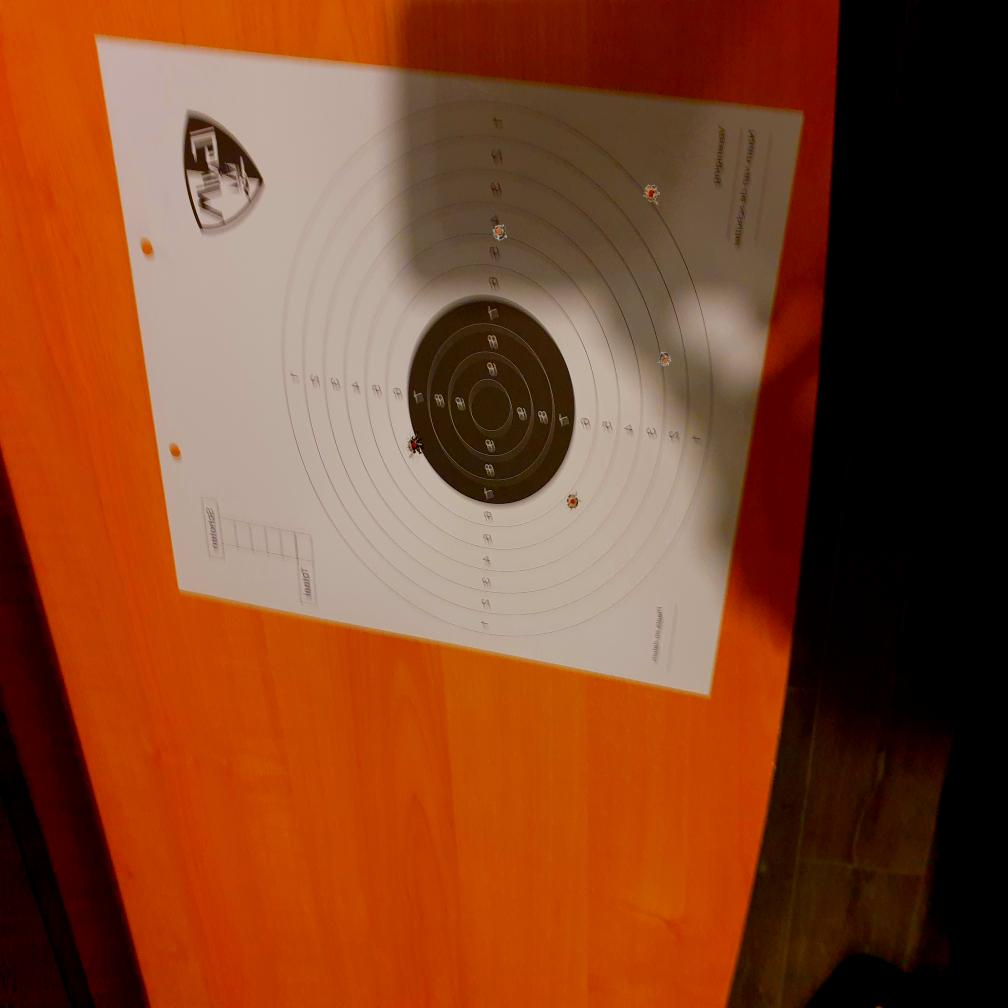0: (643, 182, 659, 205)
3: (657, 351, 672, 370)
5: (492, 224, 506, 241), (567, 493, 581, 510)
7: (407, 432, 424, 457)
Target: (279, 96, 716, 642)
black_contour: (406, 297, 576, 505)
